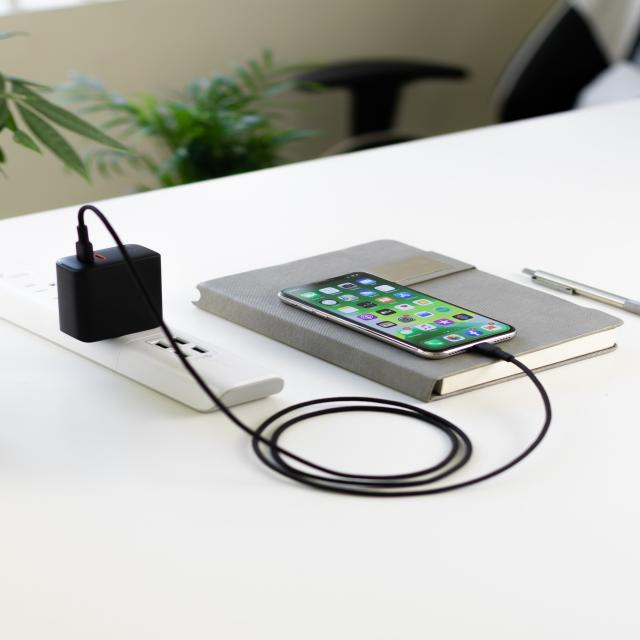battery charger: (54, 205, 319, 464)
phone: (292, 236, 527, 380)
